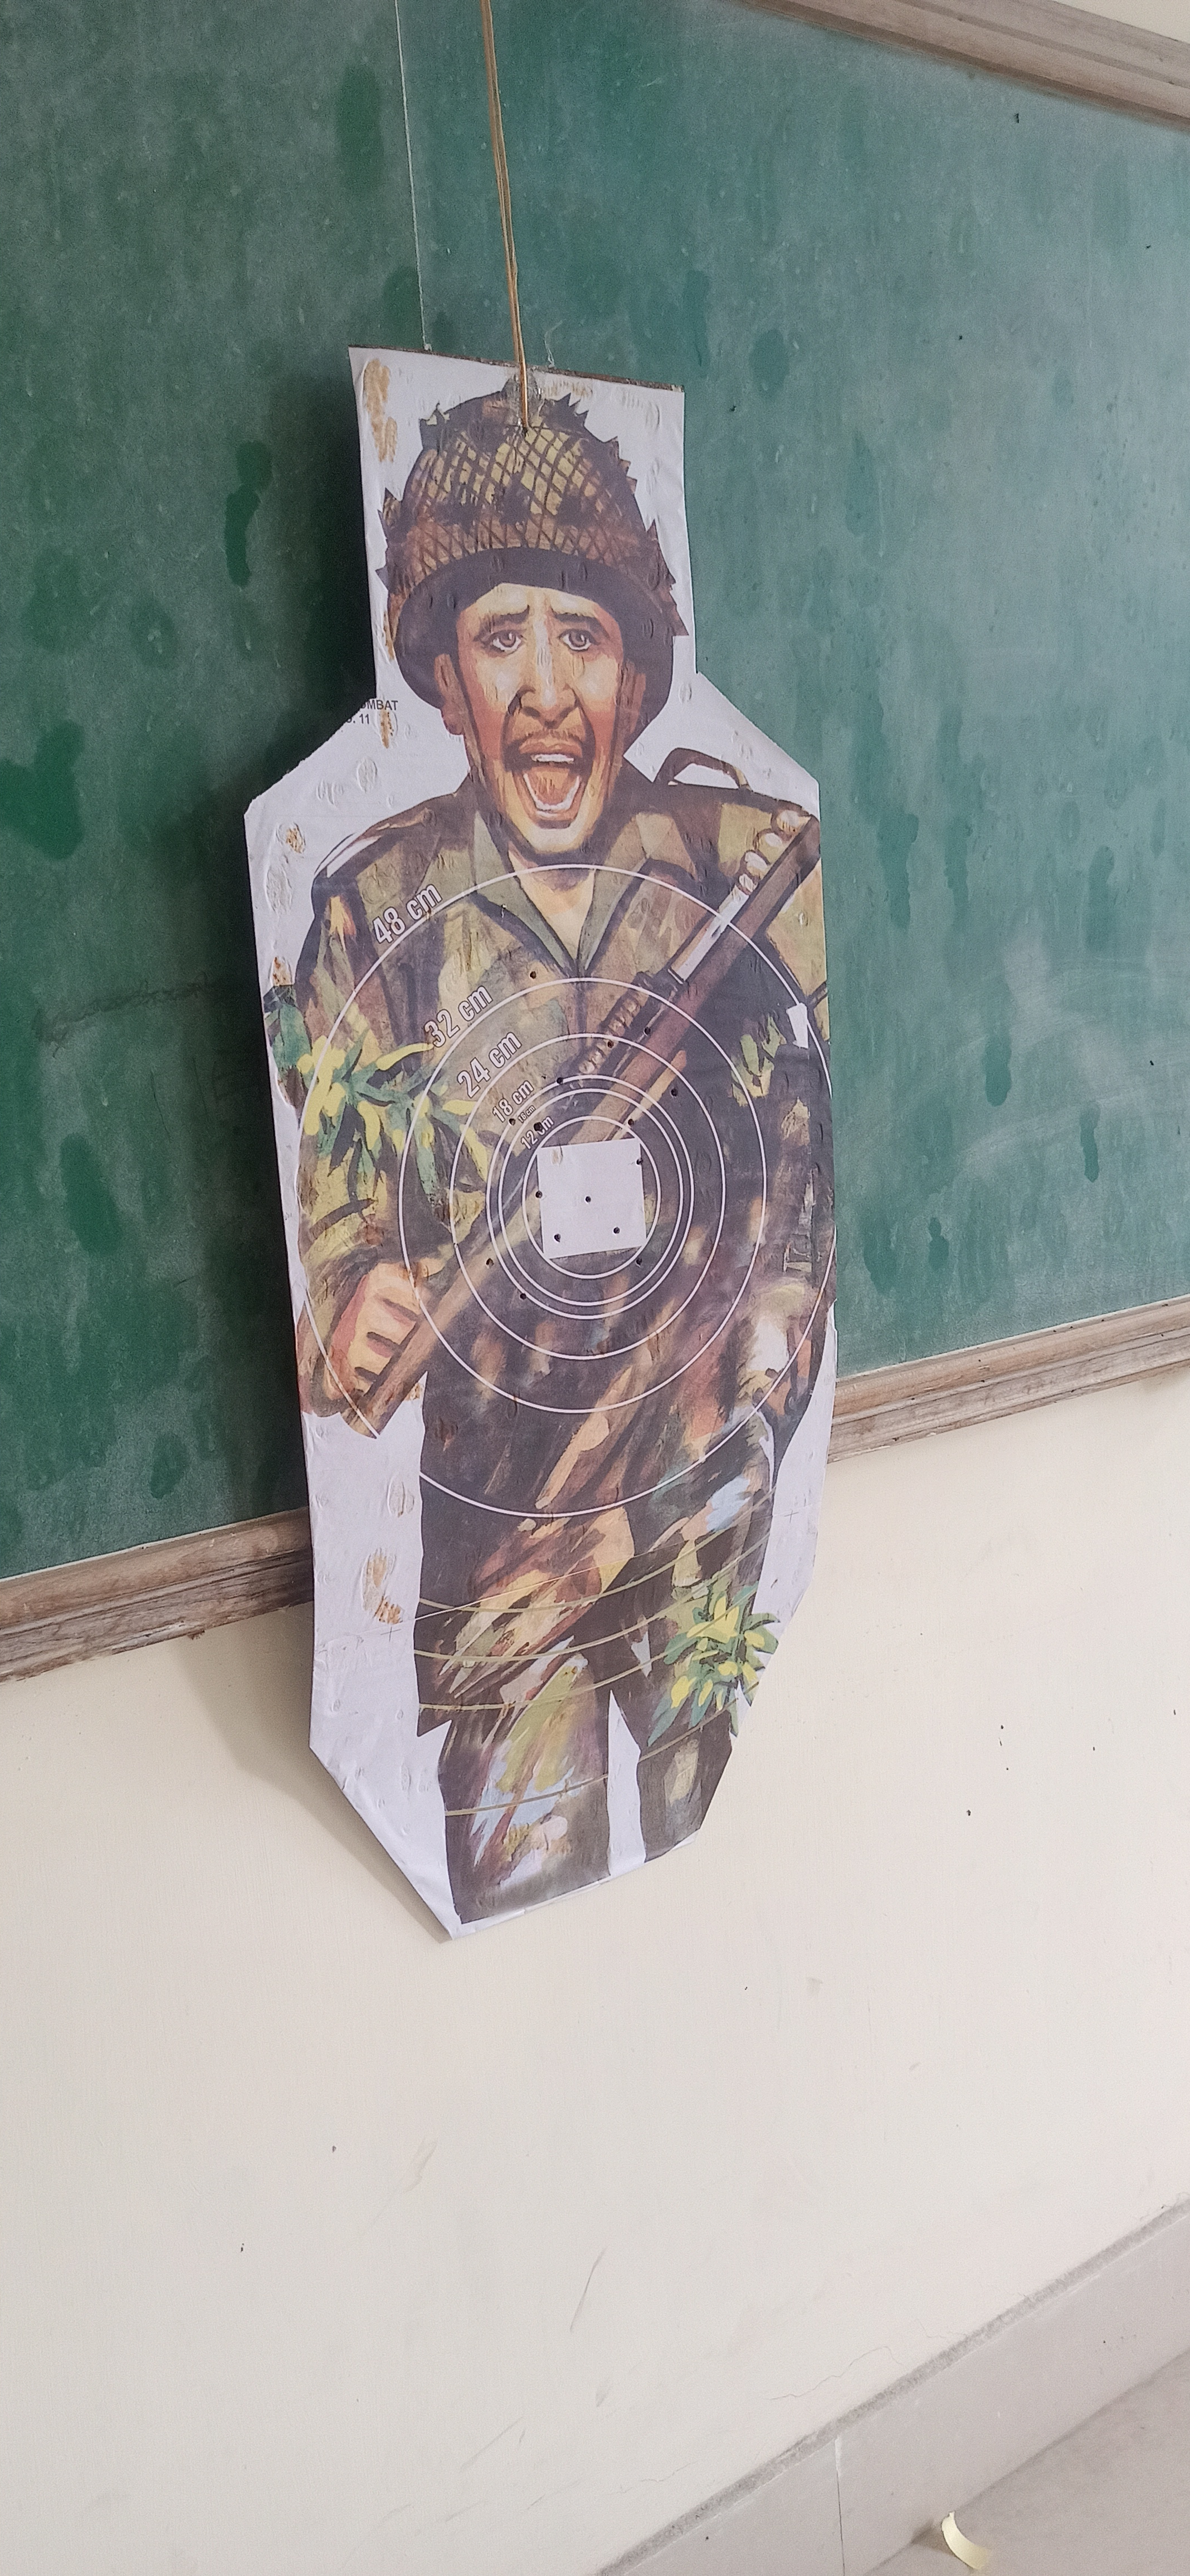bullet hit: (524, 964, 541, 984), (531, 1119, 546, 1134), (603, 1035, 616, 1051), (641, 1023, 657, 1037), (625, 1115, 639, 1129), (669, 1084, 680, 1101), (518, 1290, 531, 1303), (552, 1074, 565, 1088), (634, 1255, 646, 1270), (483, 1257, 498, 1268), (610, 1224, 625, 1235), (583, 1193, 595, 1206), (534, 1188, 546, 1199), (634, 1155, 646, 1166), (552, 1232, 565, 1242), (508, 1115, 518, 1127)
white box: (534, 1137, 651, 1267)
